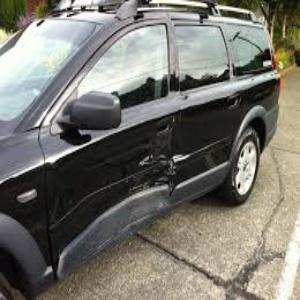door: (101, 140, 202, 194)
